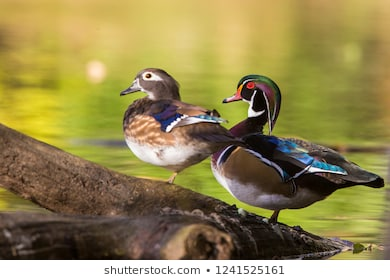duck: (215, 60, 387, 240), (100, 61, 254, 198)
